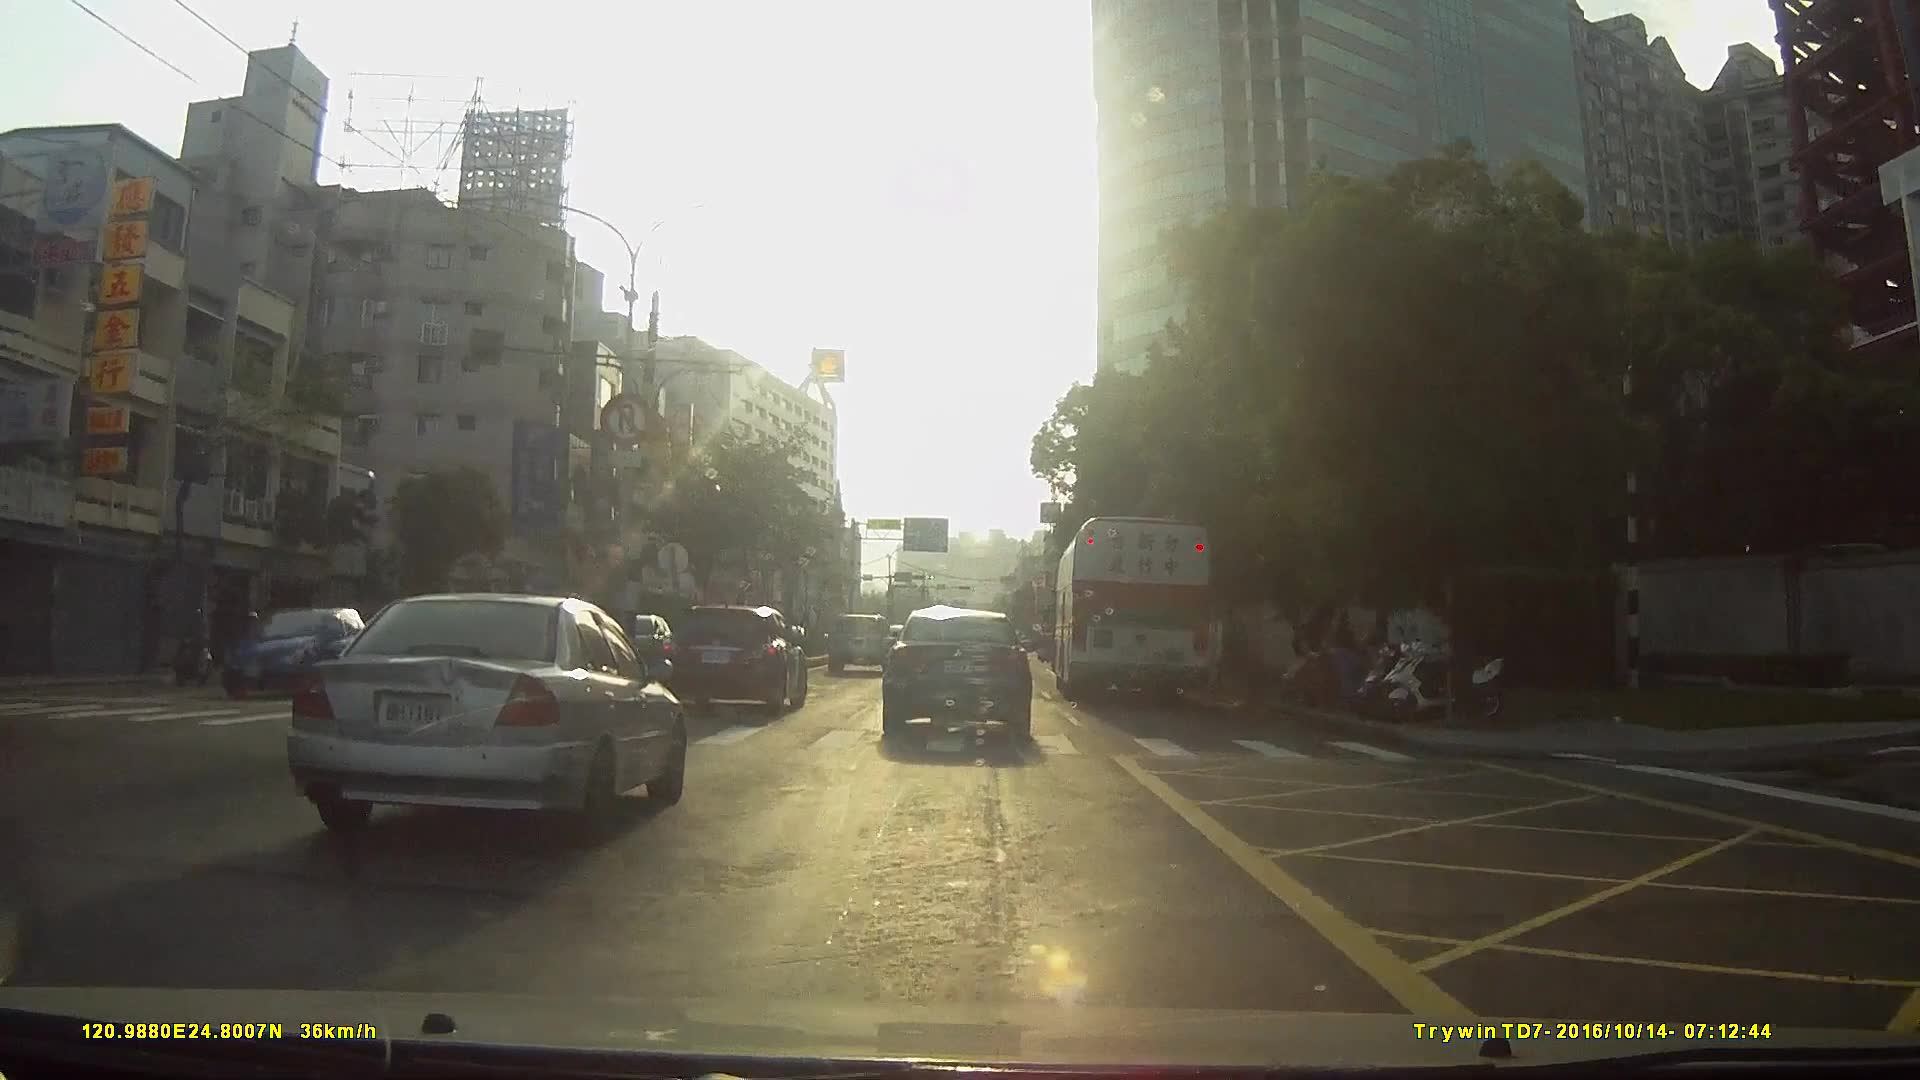rider: (174, 606, 218, 682)
vehicle: (279, 590, 685, 842), (1053, 511, 1216, 710), (882, 606, 1035, 744), (214, 601, 384, 714), (664, 604, 811, 719), (825, 614, 895, 678)
